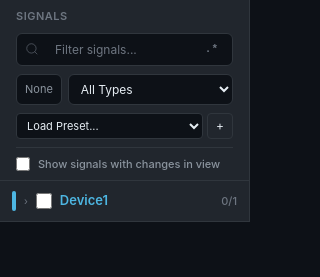
Test: SignalSidebar › Context Menu › shows context menu on right click
// Expand and right-click on signal
Click the text "Device1". click: (84, 200)
box: [60,192,108,208]
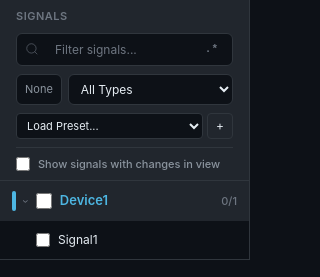
Right-click the text "Signal1" at (78, 240), box [58,231,98,249]
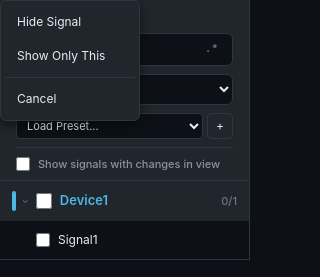
Now the text "Hide Signal" is shown, box [17,14,81,29]
Now the text "Show Only This" is shown, box [17,48,105,63]
Now the text "Cancel" is shown, box [17,91,56,106]
